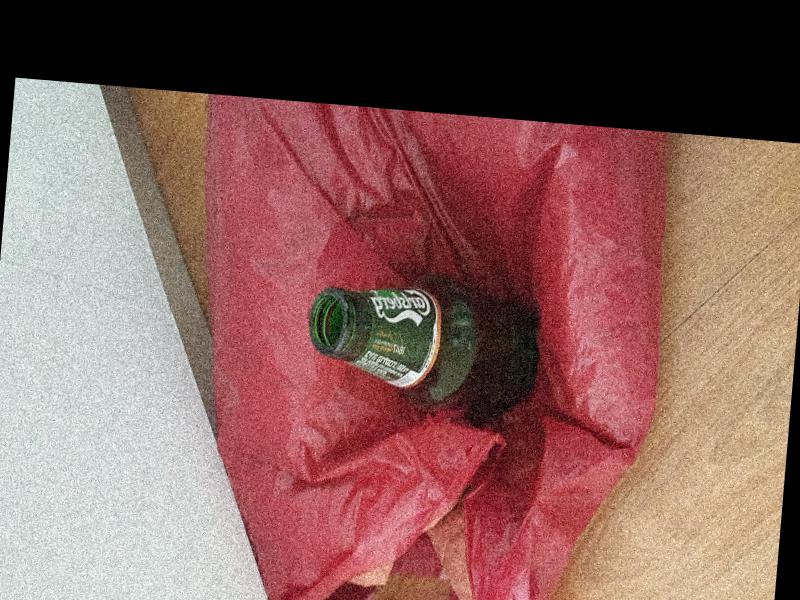Beer: (305, 266, 546, 419)
